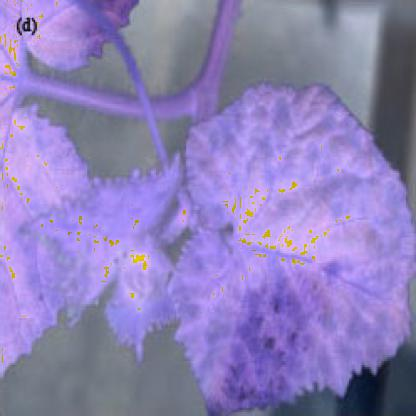tomato leaf mosaic virus: (183, 90, 408, 408)
